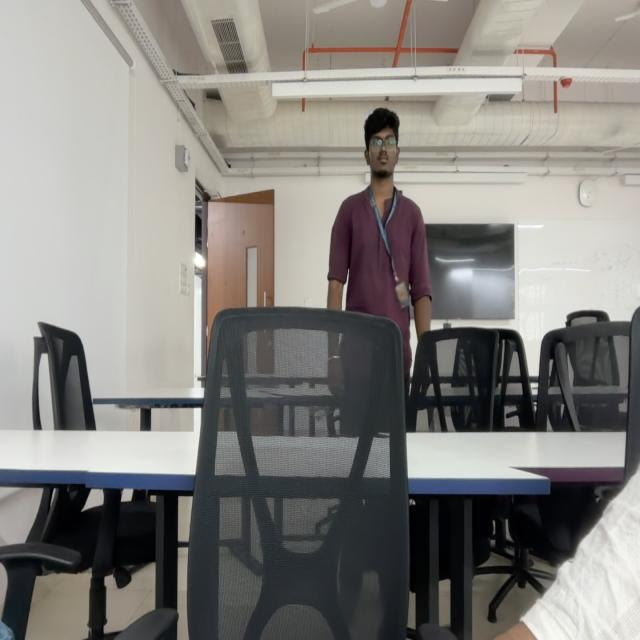ravindra: (363, 109, 402, 182)
